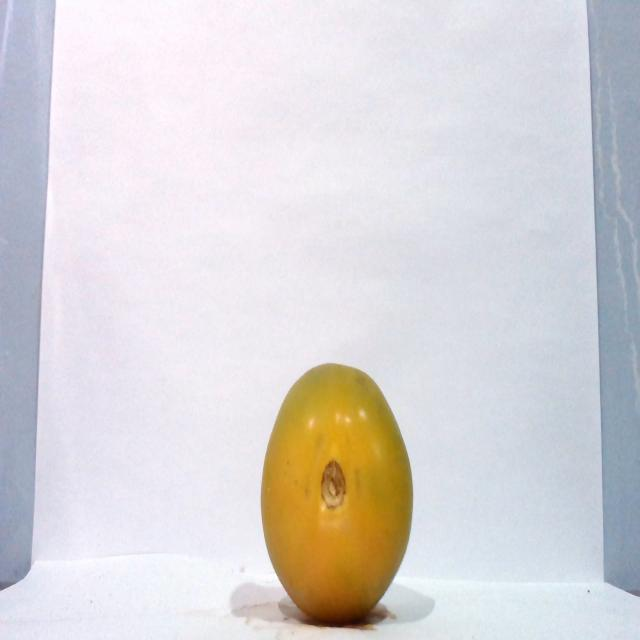Red: (258, 361, 414, 624)
